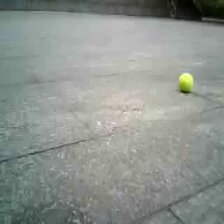tennis: (179, 73, 193, 90)
